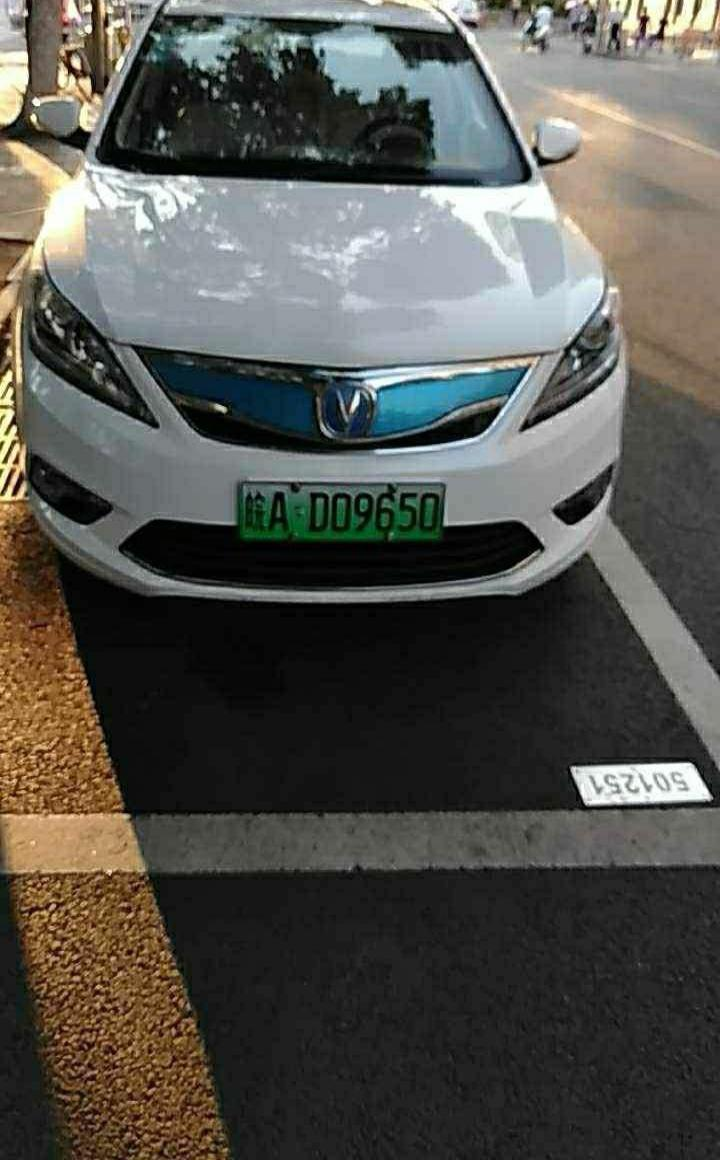car_green: (231, 478, 454, 550)
